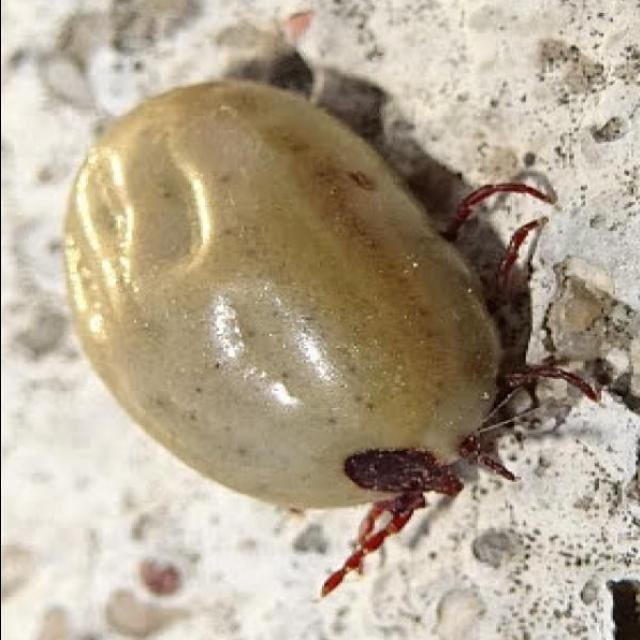Rhipicephalus Sanguineus-F-Fed: (60, 78, 605, 599)
